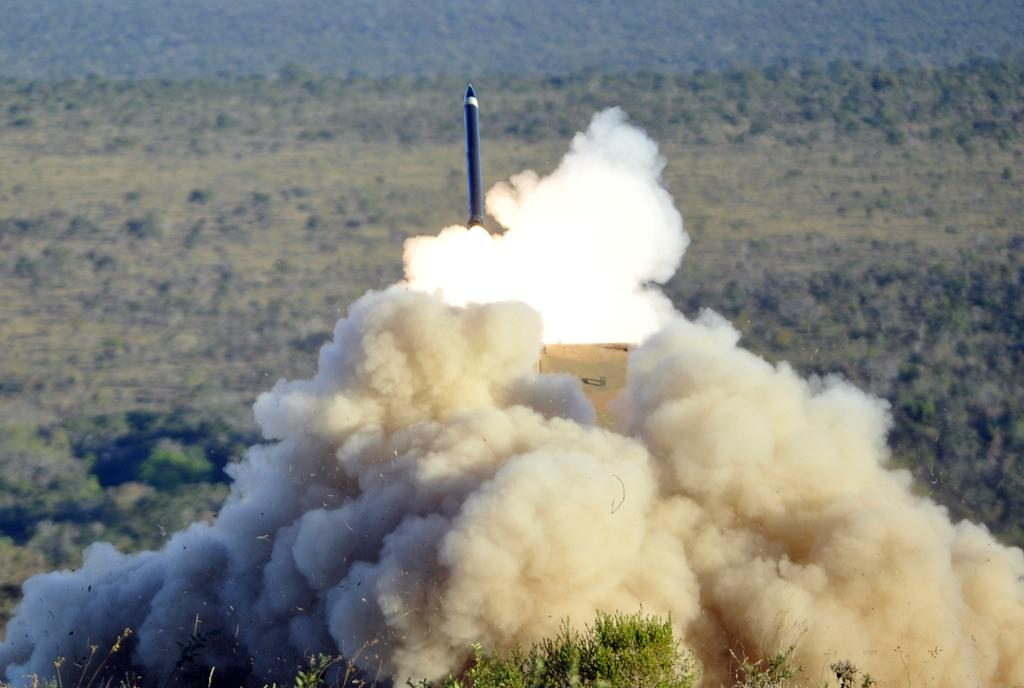Missile: (464, 83, 486, 227), (466, 80, 485, 227)
